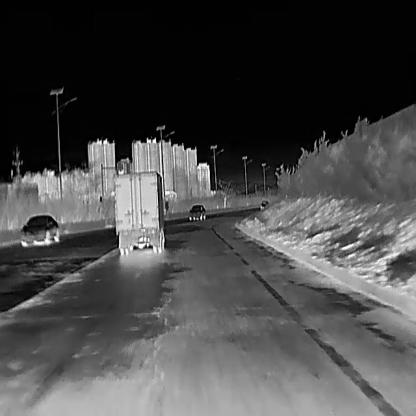car: (18, 213, 59, 245), (188, 203, 206, 219), (259, 199, 268, 208)
truck: (113, 169, 167, 254)
